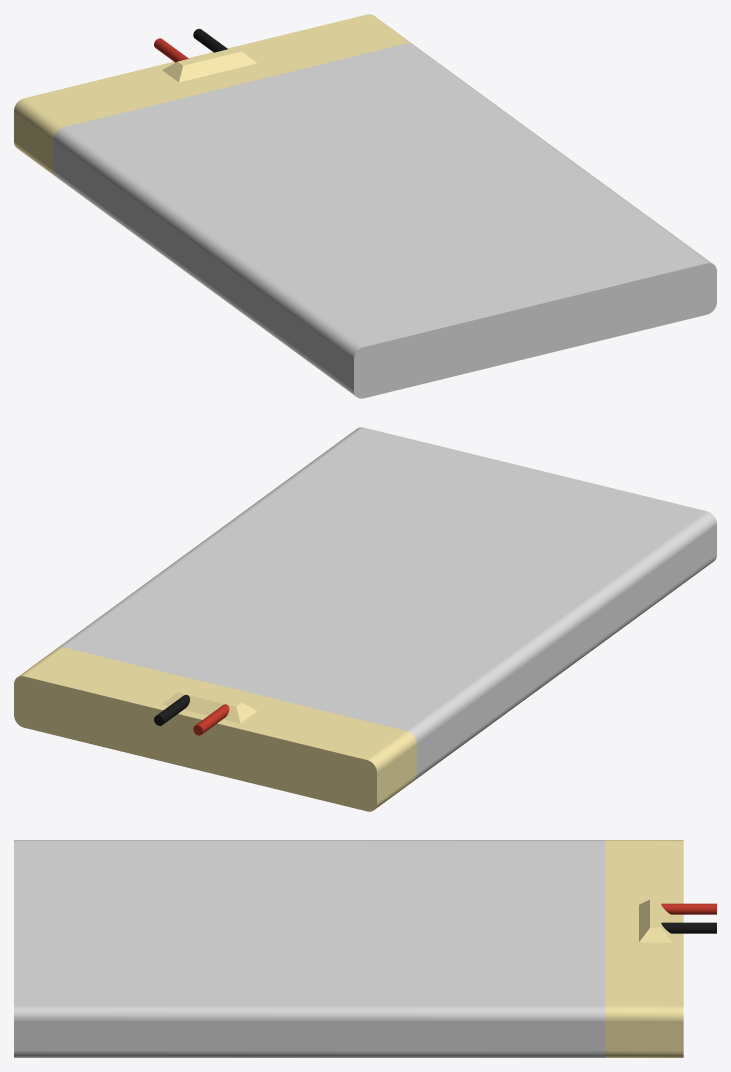
File: ada-258.glb
3 views of the same model, one above another, from view 1: azimuth 30°, elevation 25°; view 2: azimuth 150°, elevation 25°; view 3: azimuth 270°, elevation 25° (orthographic).
Parts seen in each view (by area): view 1: 0.9166666666666666_0.9166666666666666_0.9166666666666666_0.8, 0.9166666666666666_0.75_0.4166666666666667_0.9; view 2: 0.9166666666666666_0.9166666666666666_0.9166666666666666_0.8, 0.9166666666666666_0.75_0.4166666666666667_0.9; view 3: 0.9166666666666666_0.9166666666666666_0.9166666666666666_0.8, 0.9166666666666666_0.75_0.4166666666666667_0.9, 0.5833333333333334_0_0_0, 0_0_0_0.
Part boxes in pixels (x1,y1,x2,y2): 0.9166666666666666_0.9166666666666666_0.9166666666666666_0.8: [53, 43, 716, 398]; 0.9166666666666666_0.75_0.4166666666666667_0.9: [14, 14, 411, 176]; 0.9166666666666666_0.9166666666666666_0.9166666666666666_0.8: [58, 427, 716, 780]; 0.9166666666666666_0.75_0.4166666666666667_0.9: [14, 647, 416, 811]; 0.9166666666666666_0.9166666666666666_0.9166666666666666_0.8: [14, 840, 605, 1057]; 0.9166666666666666_0.75_0.4166666666666667_0.9: [605, 840, 683, 1057]; 0.5833333333333334_0_0_0: [661, 903, 716, 914]; 0_0_0_0: [661, 922, 716, 933].
Size of the model in its own units: 3.7 by 0.6001 by 6.3.
